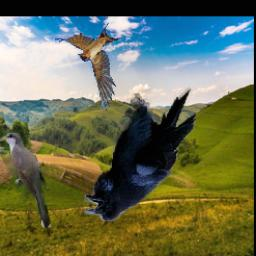Crow: (84, 87, 196, 221)
Cuckoo: (0, 130, 51, 230)
Swallow: (55, 22, 124, 111)
